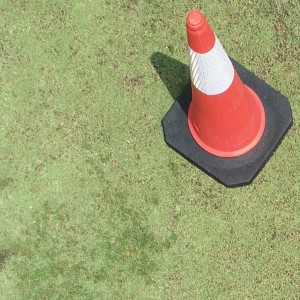traffic cone: (162, 10, 293, 188)
